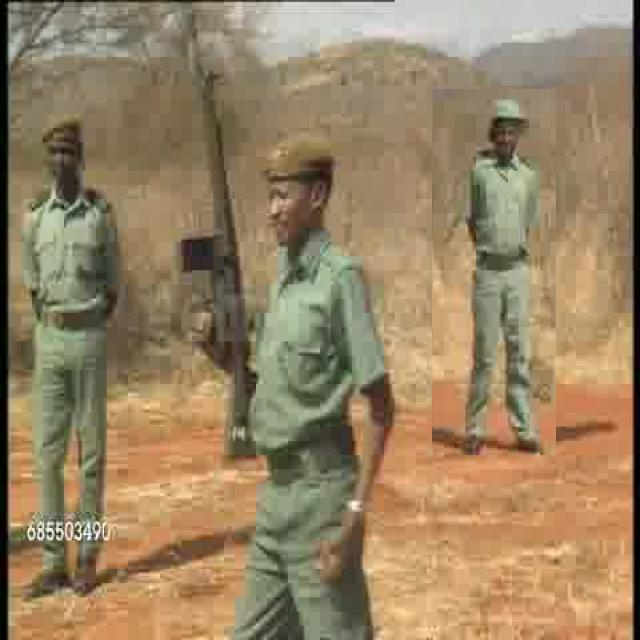poacher: (245, 108, 392, 633), (15, 85, 120, 610), (432, 89, 556, 467)
weapon: (178, 56, 254, 454)
